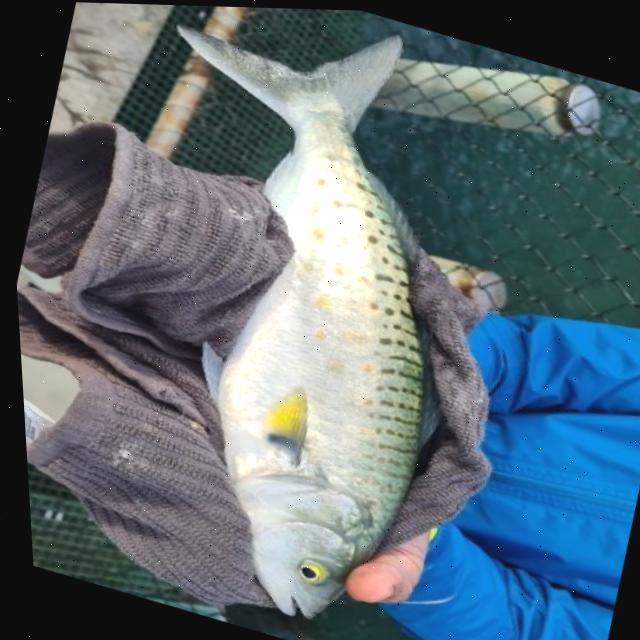Australian Salmon: (17, 0, 566, 640)
